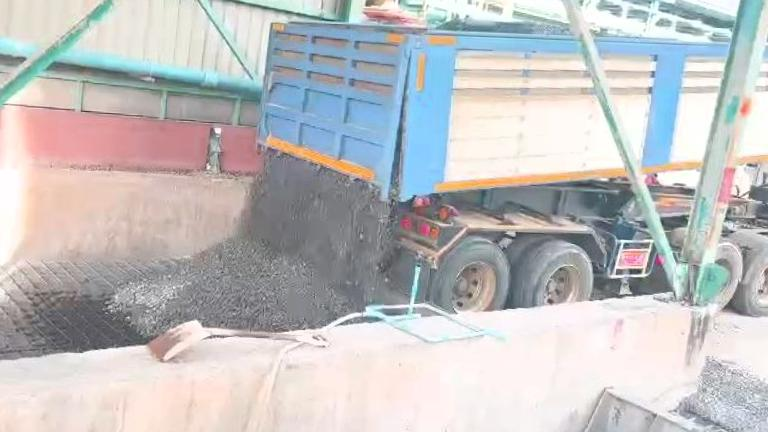gravel: (113, 154, 388, 335), (678, 357, 768, 432), (433, 16, 568, 33)
